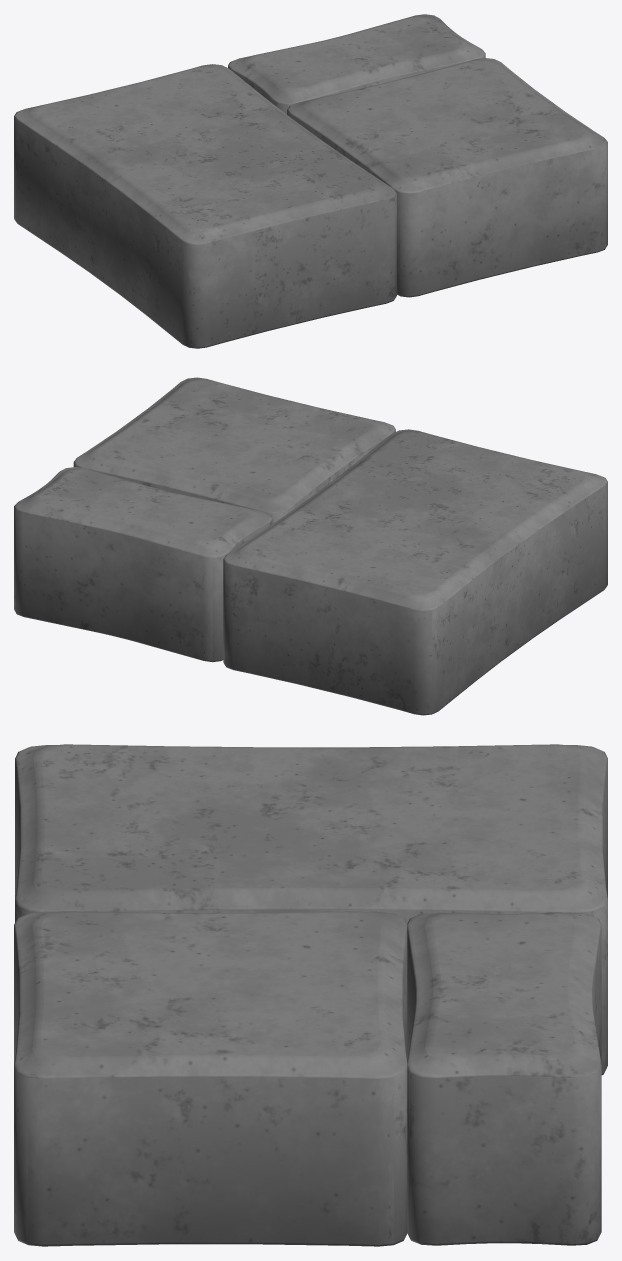
Rendered from owc-ash.gltf.
3 renders of one model, top to bottom at view 1: azimuth 30°, elevation 25°; view 2: azimuth 150°, elevation 25°; view 3: azimuth 270°, elevation 25°, orthographic. The views are drawn at different scales.
Parts seen in each view (by area): view 1: Old World Cobble Regular.001, Old World Cobble Square.001, Old World Cobble Half.001; view 2: Old World Cobble Regular.001, Old World Cobble Half.001, Old World Cobble Square.001; view 3: Old World Cobble Square.001, Old World Cobble Regular.001, Old World Cobble Half.001.
Part boxes in pixels (left/top/right/bottom): Old World Cobble Regular.001: left=14, top=64, right=396, bottom=348; Old World Cobble Square.001: left=287, top=58, right=607, bottom=297; Old World Cobble Half.001: left=228, top=14, right=485, bottom=114; Old World Cobble Regular.001: left=223, top=429, right=607, bottom=715; Old World Cobble Half.001: left=14, top=467, right=273, bottom=662; Old World Cobble Square.001: left=73, top=377, right=395, bottom=523; Old World Cobble Square.001: left=14, top=911, right=407, bottom=1246; Old World Cobble Regular.001: left=15, top=744, right=607, bottom=1075; Old World Cobble Half.001: left=407, top=912, right=601, bottom=1245.
Size of the model in its own units: 0.239 by 0.0603 by 0.1801.
Materials: 1 (1 with a texture image).
